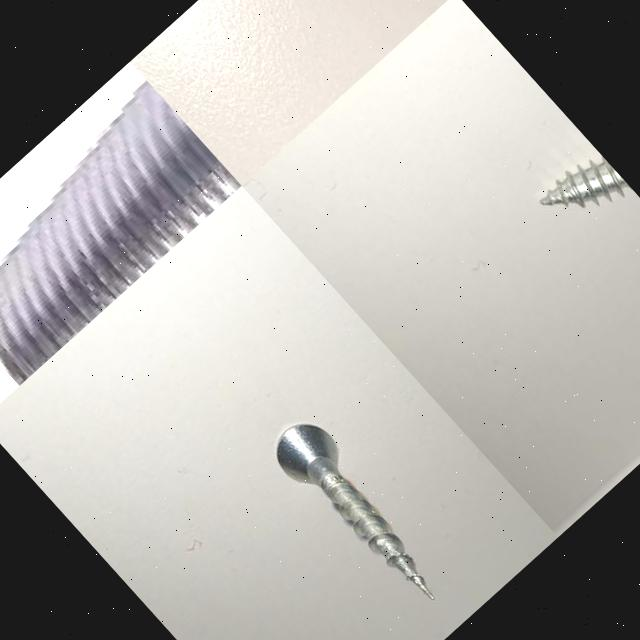Screw: (0, 78, 241, 387), (277, 424, 434, 600), (540, 157, 632, 207)
